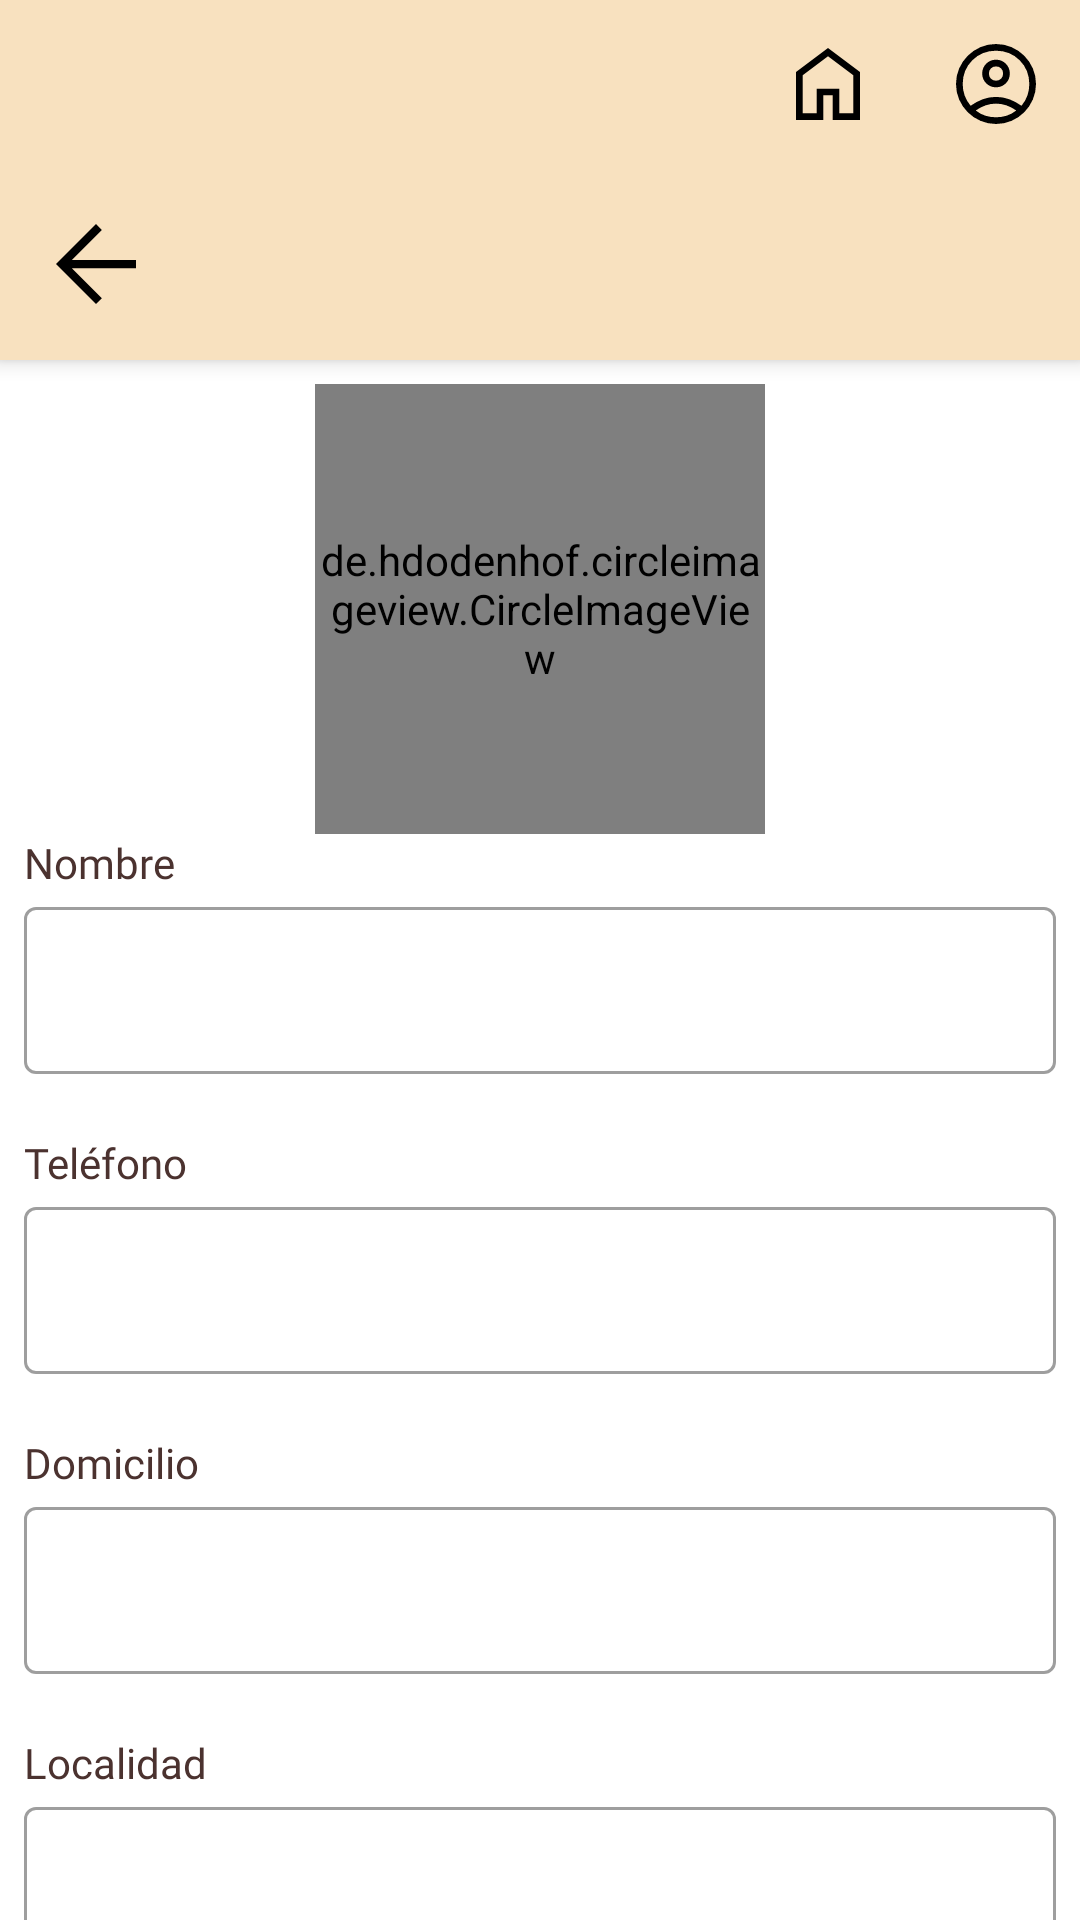

Icons on this 1080w x 1920h Android screen, each with its box as (x1, y1, x2, y2):
back: (56, 224, 136, 304)
